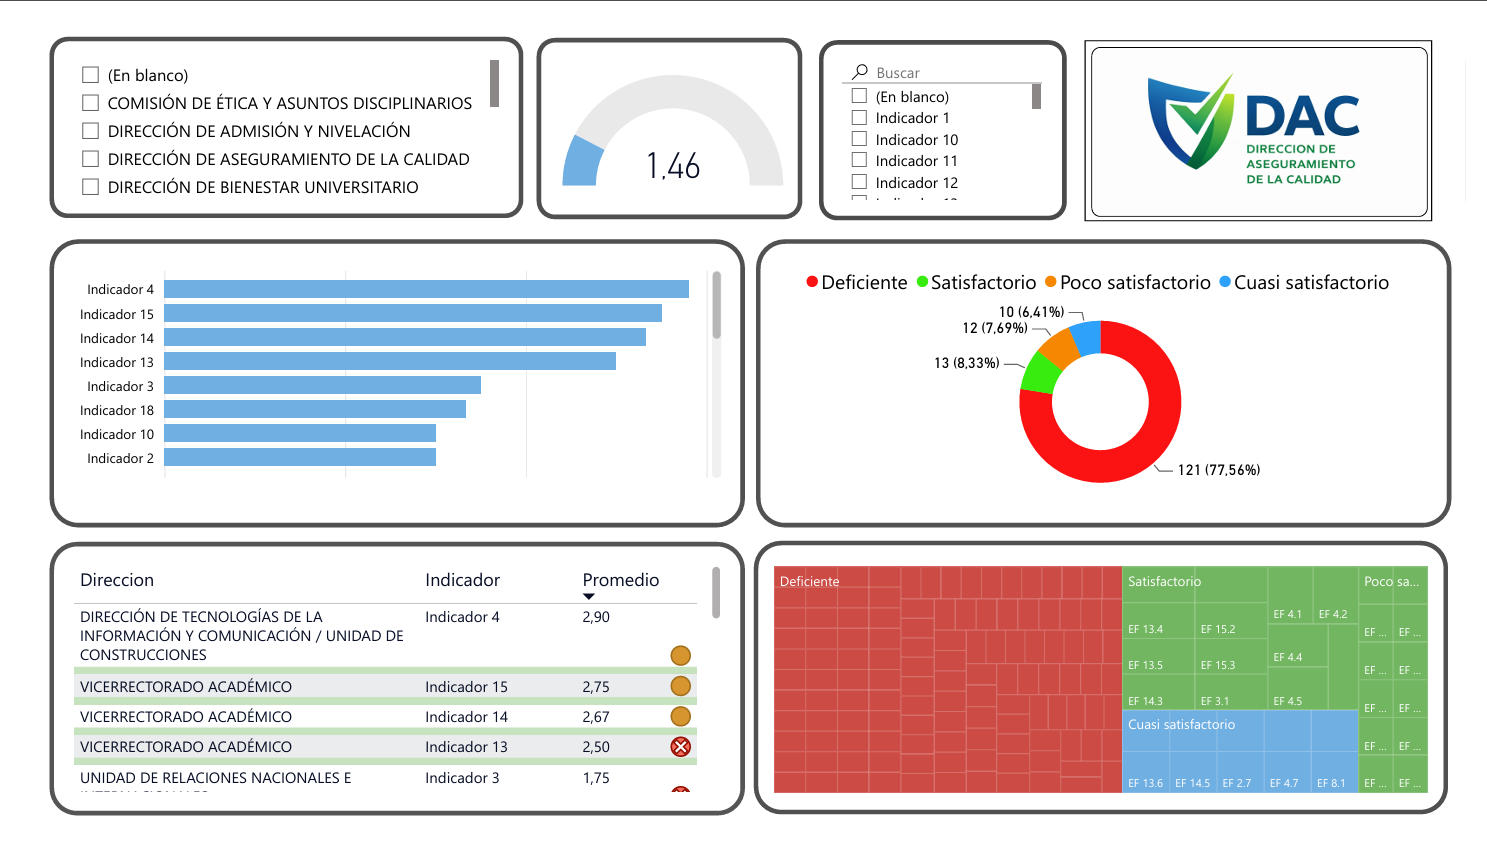

The dashboard page shown, as its layout file describes it:
{"tool":"powerbi","page":{"name":"Informe matriz","canvas":[1280,720],"ordinal":0},"visuals":[{"type":"shape","box":[20.6,15.1,421.3,160.5],"z":0},{"type":"shape","box":[20.6,194.9,618.9,256.6],"z":1000},{"type":"shape","box":[649.1,194.9,618.9,256.6],"z":2000},{"type":"shape","box":[20.6,463.8,618.9,242.9],"z":3000},{"type":"donutChart","fields":{"Category":["Matriz (3).Calificacion"],"Y":["Sum(Matriz (3).Valor Numerico)"]},"box":[649.3,194.4,618.8,256.8],"z":4000},{"type":"barChart","fields":{"Category":["Matriz (3).Indicador"],"Y":["Avg(Matriz (3).Valor Numerico)"]},"box":[29.3,194.4,598,247],"z":5000},{"type":"shape","box":[454.2,16.5,236,160.5],"z":6000},{"type":"shape","box":[705.3,17.8,219.6,160.5],"z":7000},{"type":"tableEx","fields":{"Values":["Matriz (3).Direccion","Matriz (3).Indicador","Avg(Matriz (3).Valor Numerico)"]},"box":[37.9,474.5,589.4,223.8],"z":8000},{"type":"shape","box":[649.1,463.8,618.9,242.9],"z":9000},{"type":"image","box":[941,18.1,308.8,160.5],"z":10000},{"type":"slicer","fields":{"Values":["Matriz (3).Direccion"]},"box":[29.3,28.1,404.8,133.3],"z":11000},{"type":"gauge","fields":{"Y":["Avg(Matriz (3).Valor Numerico)"]},"box":[464.5,27.7,211.1,133.9],"z":12000},{"type":"slicer","fields":{"Values":["Matriz (3).Indicador"]},"box":[722.7,32.6,189.4,129.1],"z":13000},{"type":"treemap","fields":{"Group":["Matriz (3).Calificacion"],"Details":["Matriz (3).Elemento Fundamental"],"Values":["Avg(Matriz (3).Valor Numerico)"]},"box":[660.3,474.5,599.2,223.8],"z":14000}]}

Visuals, with their boxes in screenshot pixels (x1, y1, x2, y2), scaled from the page's 1280x720 canvas onto the 1487x852 screenshot:
shape: box=[24, 18, 513, 208]
shape: box=[24, 231, 743, 534]
shape: box=[754, 231, 1473, 534]
shape: box=[24, 549, 743, 836]
donutChart - Matriz (3).Calificacion x Sum(Matriz (3).Valor Numerico): box=[754, 230, 1473, 534]
barChart - Matriz (3).Indicador x Avg(Matriz (3).Valor Numerico): box=[34, 230, 729, 522]
shape: box=[528, 20, 802, 209]
shape: box=[819, 21, 1074, 211]
tableEx - Matriz (3).Direccion x Matriz (3).Indicador: box=[44, 561, 729, 826]
shape: box=[754, 549, 1473, 836]
image: box=[1093, 21, 1452, 211]
slicer - Matriz (3).Direccion: box=[34, 33, 504, 191]
gauge - Avg(Matriz (3).Valor Numerico): box=[540, 33, 785, 191]
slicer - Matriz (3).Indicador: box=[840, 39, 1060, 191]
treemap - Matriz (3).Calificacion x Matriz (3).Elemento Fundamental: box=[767, 561, 1463, 826]
